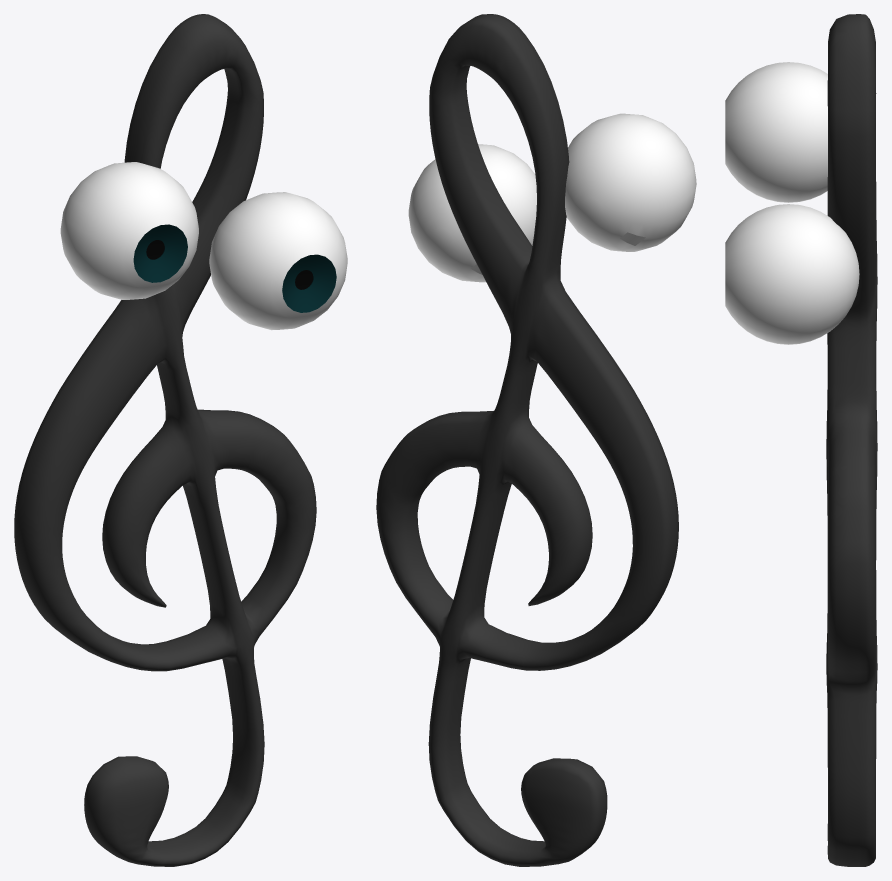
File: clave final.fbx
3 renders of one model, left to right at view 1: azimuth 30°, elevation 25°; view 2: azimuth 150°, elevation 25°; view 3: azimuth 270°, elevation 25°, orthographic. The views are drawn at different scales.
Parts seen in each view (by area): view 1: clave_de_sol:SM_MusicNote_03, eyes:Olho_esquerdo, Olho_esquerdo1; view 2: clave_de_sol:SM_MusicNote_03, eyes:Olho_esquerdo, Olho_esquerdo1; view 3: clave_de_sol:SM_MusicNote_03, Olho_esquerdo1, eyes:Olho_esquerdo.
Boxes of the visible parts, x1,y1,x2,y2 form: clave_de_sol:SM_MusicNote_03: (14,14,316,866); eyes:Olho_esquerdo: (60,162,198,299); Olho_esquerdo1: (209,192,347,330); clave_de_sol:SM_MusicNote_03: (376,14,678,866); eyes:Olho_esquerdo: (565,113,696,251); Olho_esquerdo1: (408,144,536,282); clave_de_sol:SM_MusicNote_03: (826,14,877,866); Olho_esquerdo1: (725,204,859,344); eyes:Olho_esquerdo: (725,62,827,202).
Bounding box in the file's own units: 1.05 × 2.89 × 0.4669.
